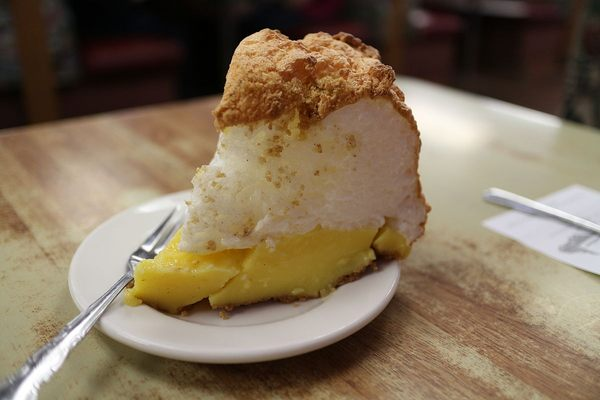burger: (482, 186, 599, 237)
sandwich: (483, 186, 600, 238)
